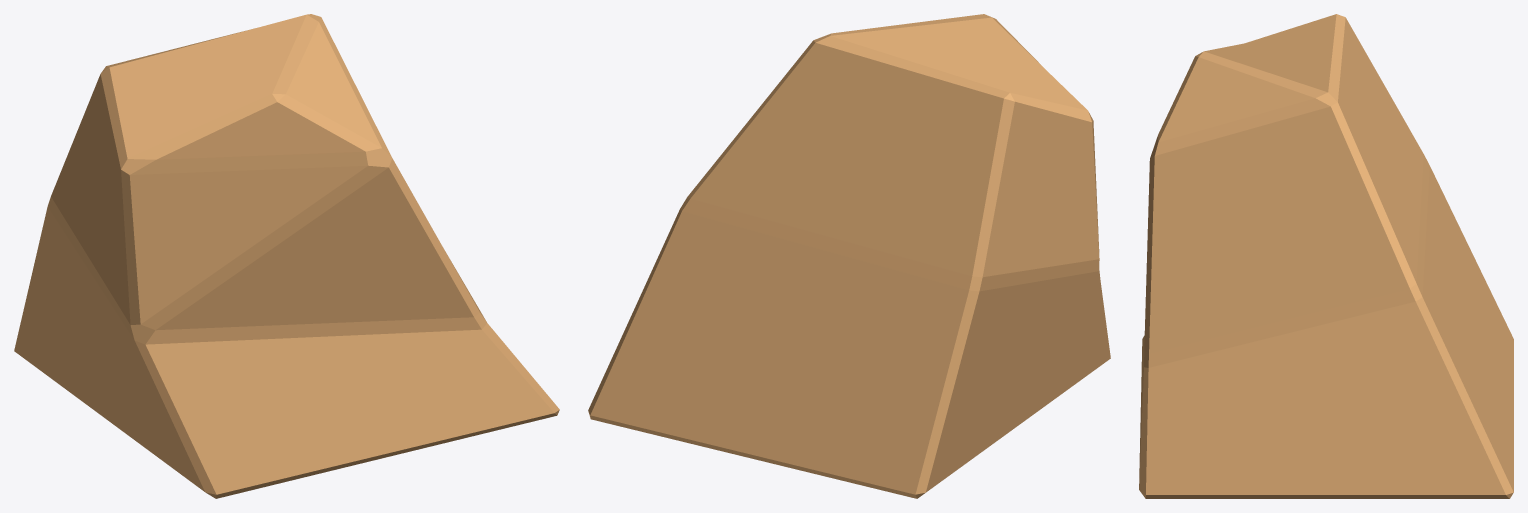
File: Roca4.fbx
3 views of the same model, side by side, from view 1: azimuth 30°, elevation 25°; view 2: azimuth 150°, elevation 25°; view 3: azimuth 270°, elevation 25° (orthographic). The views are drawn at different scales.
Visible parts, largest first — view 1: Pedrolo4; view 2: Pedrolo4; view 3: Pedrolo4.
Part boxes in pixels (x1,y1,x2,y2): Pedrolo4: (14, 14, 559, 498); Pedrolo4: (588, 14, 1110, 498); Pedrolo4: (1139, 14, 1513, 498).
Size of the model in its own units: 597 by 540 by 543.
